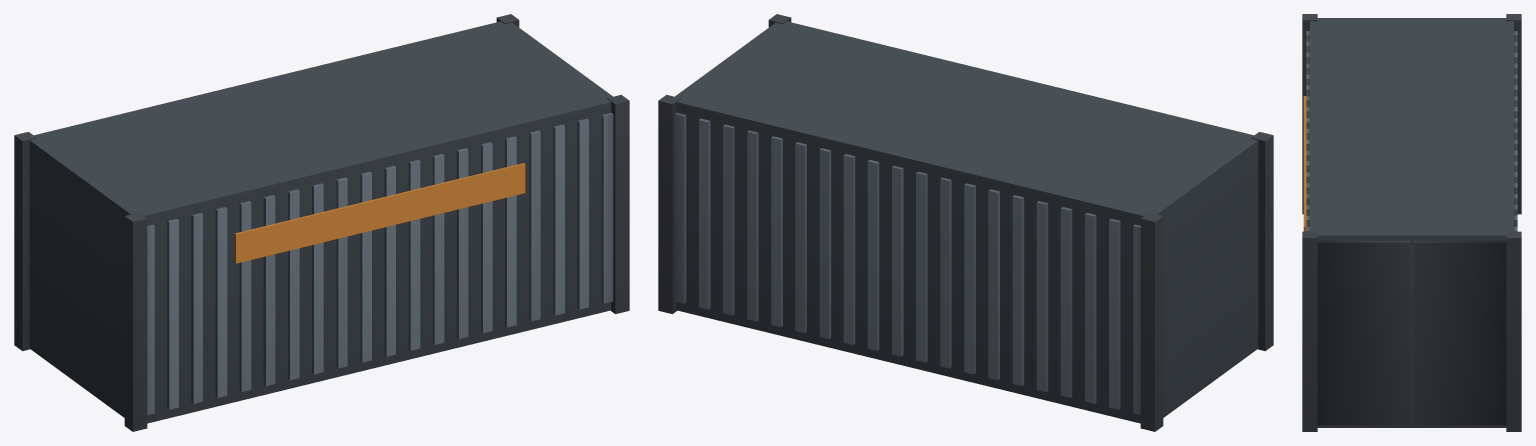
File: obj_contenedor_3.glb
3 renders of one model, left to right at view 1: azimuth 30°, elevation 25°; view 2: azimuth 150°, elevation 25°; view 3: azimuth 270°, elevation 25°, orthographic. The views are drawn at different scales.
Parts seen in each view (by area): view 1: propforge-cuartos-contenedor; view 2: propforge-cuartos-contenedor; view 3: propforge-cuartos-contenedor.
Part boxes in pixels (x1,y1,x2,y2): propforge-cuartos-contenedor: [14, 14, 629, 431]; propforge-cuartos-contenedor: [658, 14, 1273, 431]; propforge-cuartos-contenedor: [1302, 14, 1521, 431].
Size of the model in its own units: 1.06 by 0.4284 by 0.4386.
